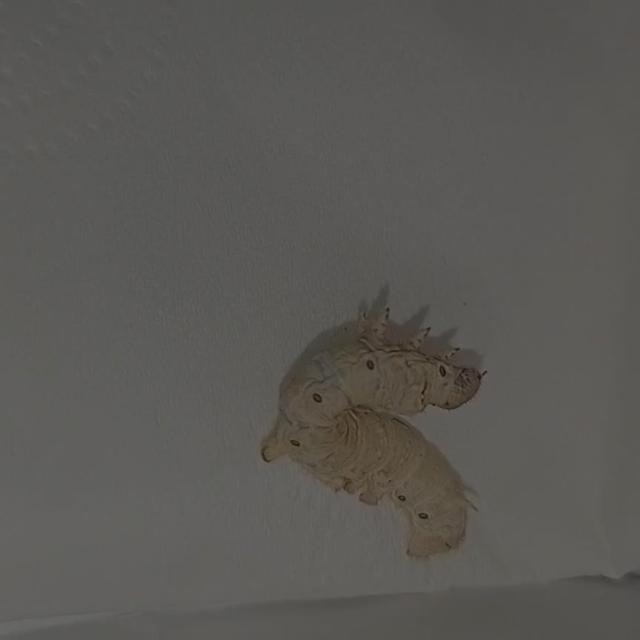Healthy: (247, 288, 497, 575)
